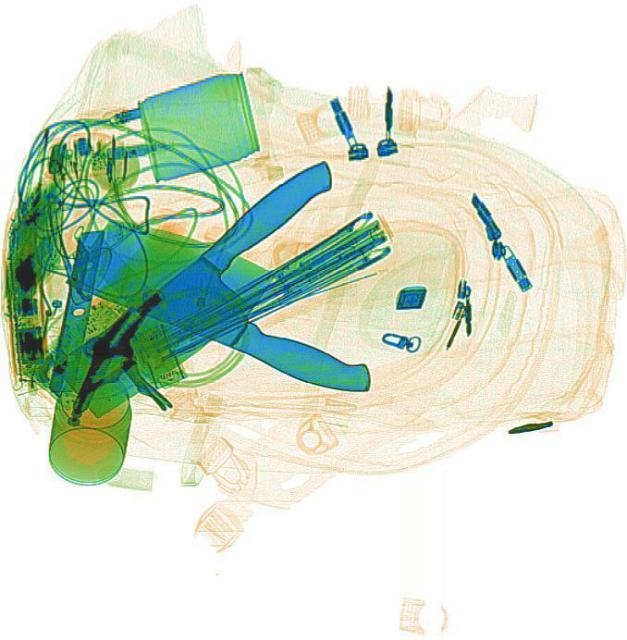Knife: (41, 152, 372, 424), (67, 204, 396, 402)
